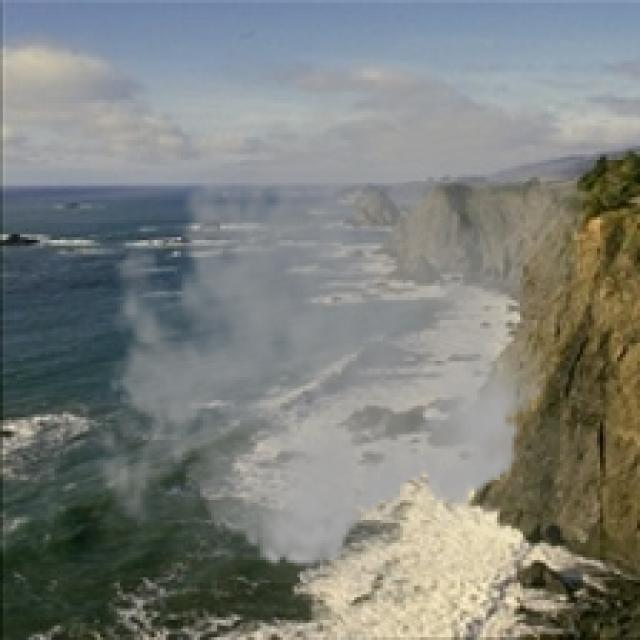smoke: (80, 40, 600, 583)
